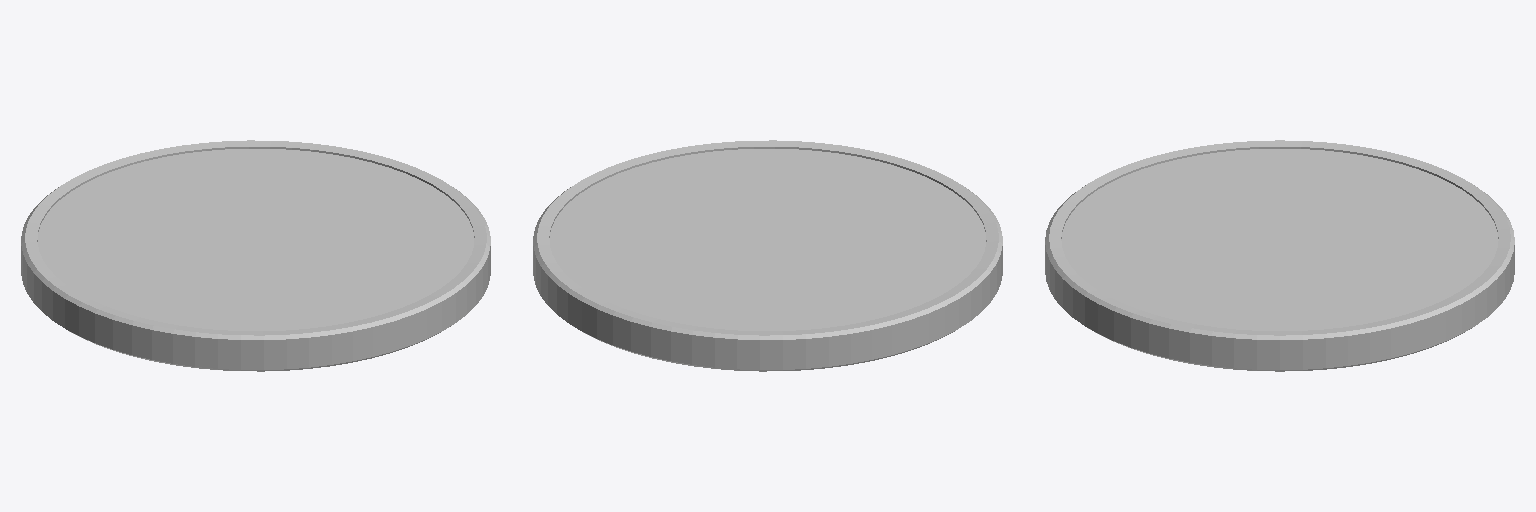
File: coin.obj
3 views of the same model, side by side, from view 1: azimuth 30°, elevation 25°; view 2: azimuth 150°, elevation 25°; view 3: azimuth 270°, elevation 25° (orthographic).
Visible parts, largest first — view 1: coin.002; view 2: coin.002; view 3: coin.002.
Boxes of the visible parts, x1=… form: coin.002: x1=21, y1=140, x2=490, y2=371; coin.002: x1=533, y1=140, x2=1002, y2=371; coin.002: x1=1045, y1=140, x2=1514, y2=371.
Bounding box in the file's own units: 1.64 × 0.1382 × 1.64.